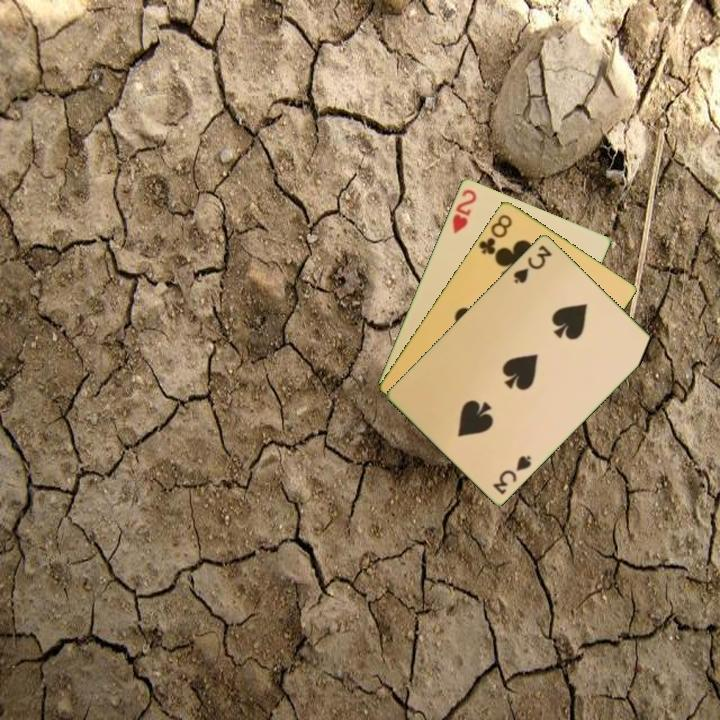2h: (448, 185, 479, 236)
3s: (489, 451, 534, 497), (510, 241, 555, 286)
8c: (475, 210, 515, 257)
